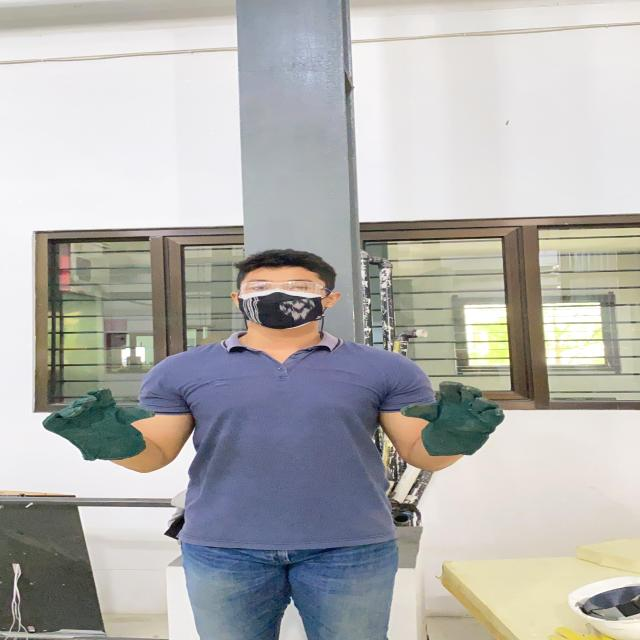face_mask: (232, 275, 330, 328)
glasses: (235, 277, 338, 298)
hand_glove: (39, 386, 163, 464), (396, 377, 517, 451)
head_nohelmet: (228, 244, 338, 280)
person: (89, 242, 460, 640)
